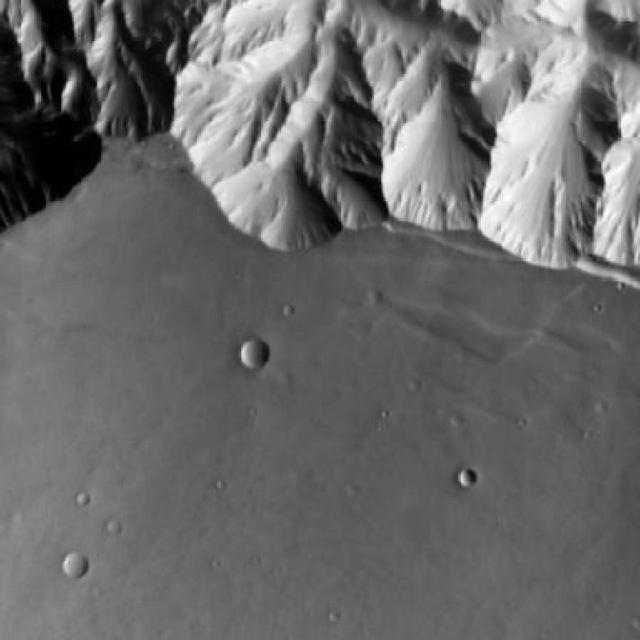crater: (236, 334, 270, 368), (60, 550, 88, 578), (453, 468, 473, 488)
